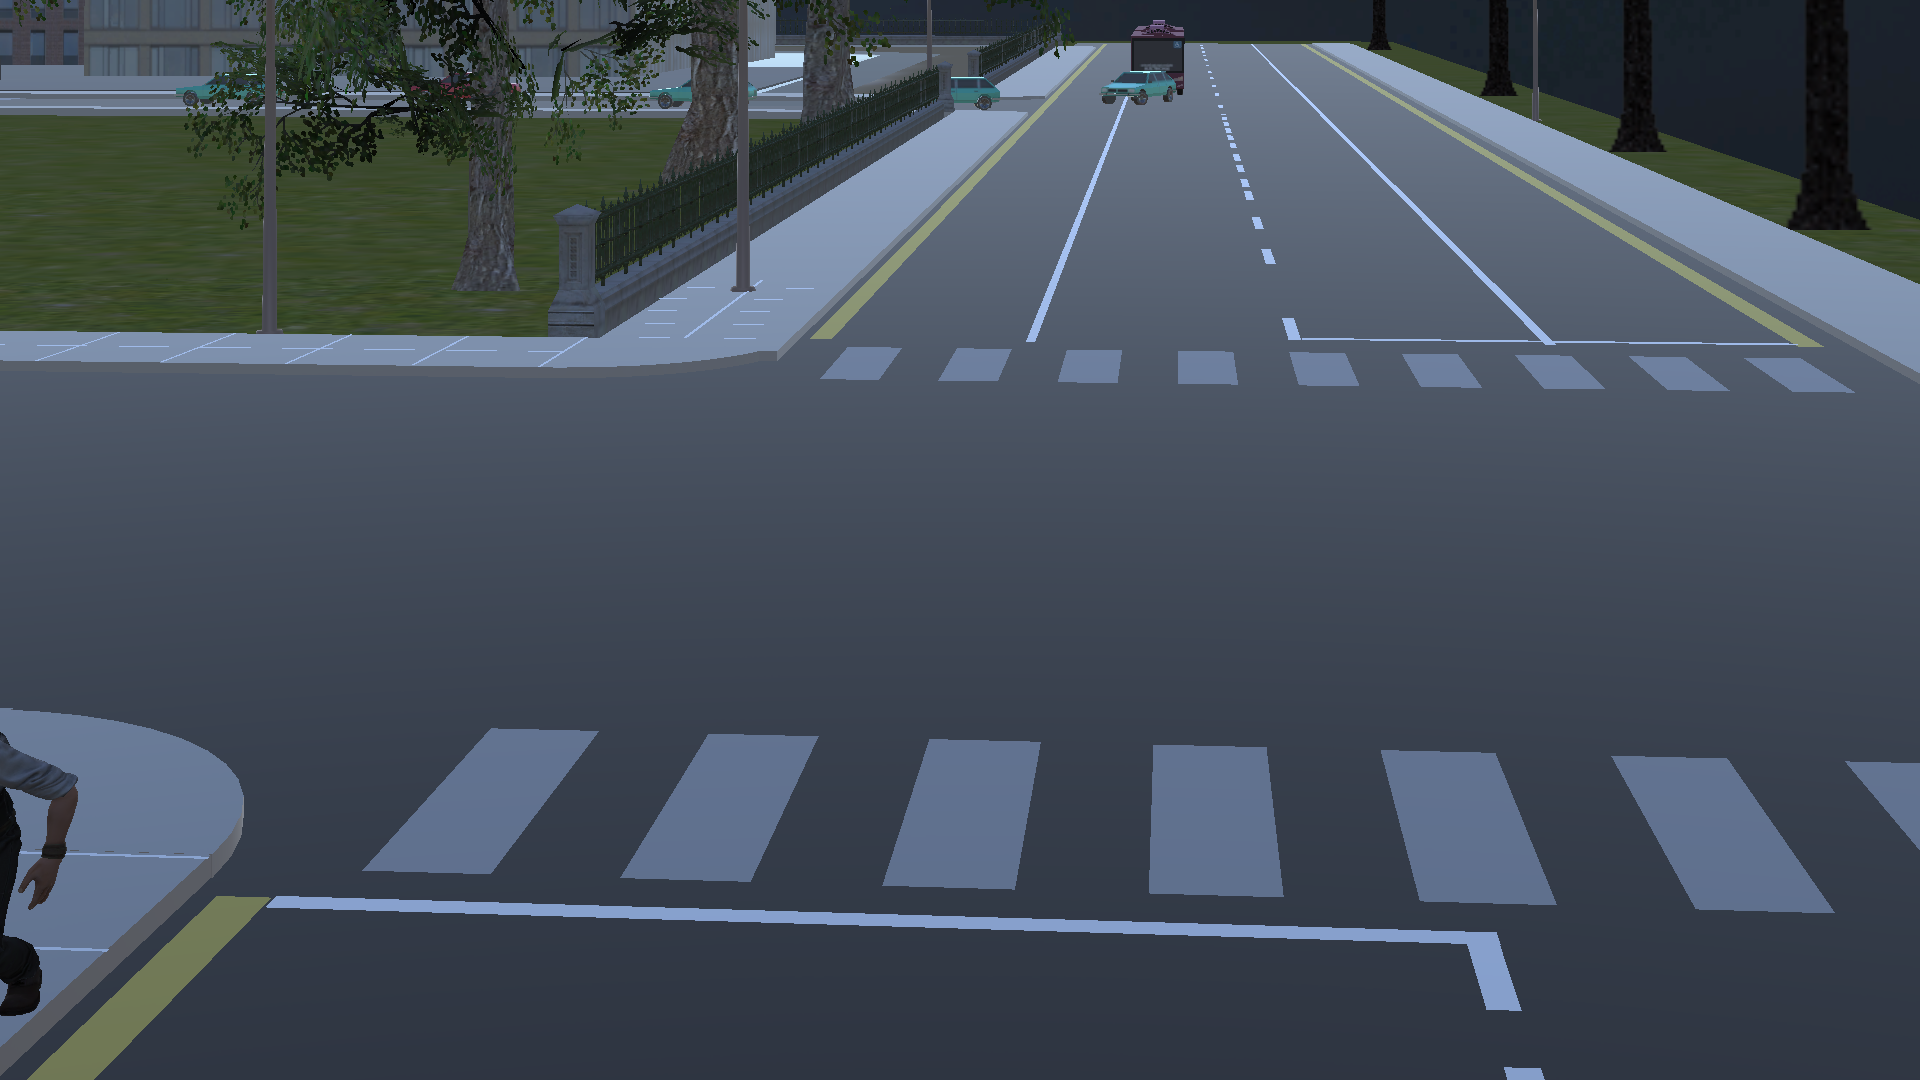pedestrian: (1, 726, 88, 1030)
